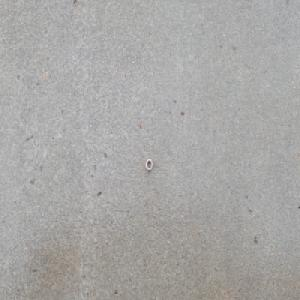Nut: (145, 157, 153, 171)
